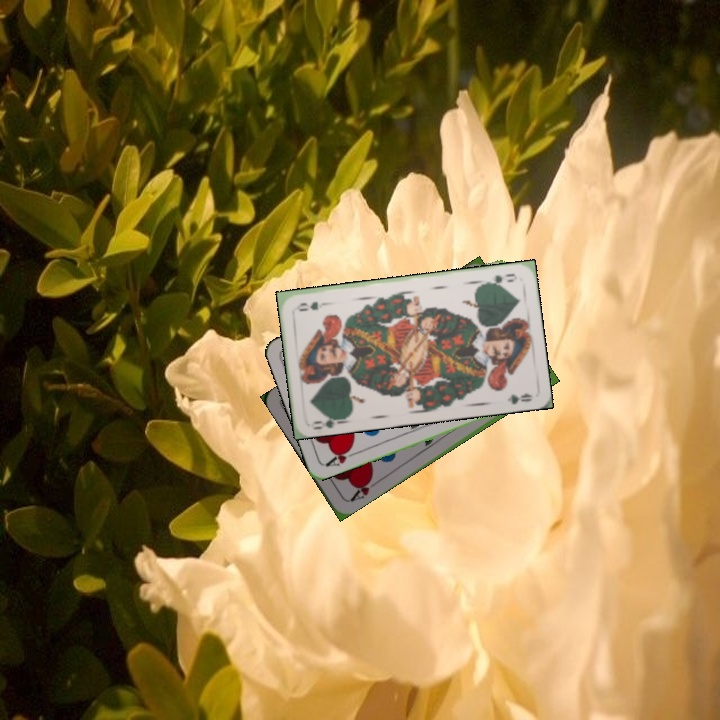GO: (308, 411, 348, 432), (480, 269, 517, 288)
HA: (344, 472, 381, 504), (322, 443, 361, 469)
